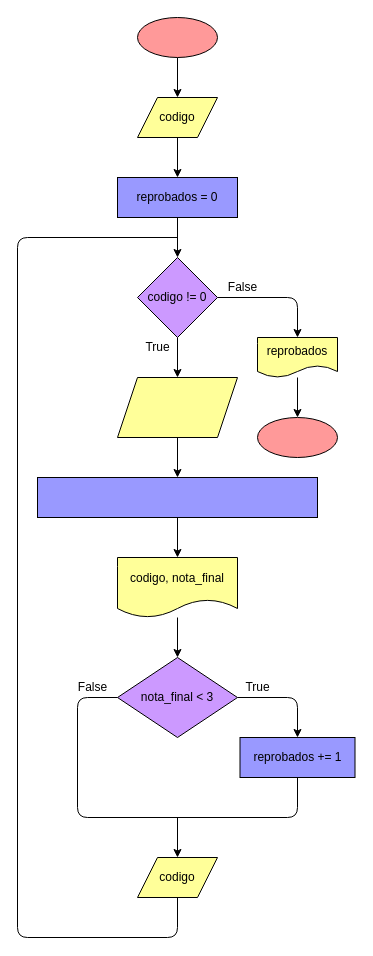
Some shapes in this 373 by 956 pixel diagram are drawn without their labels. Each missing label, with the box of its shape:
FIN: (256, 416, 338, 458)
INICIO: (136, 16, 218, 58)
nota_final = (parcial1 + parcial2 + parcial3) / 3: (36, 476, 318, 518)
parcial1, parcial2, parcial3: (116, 376, 238, 438)
